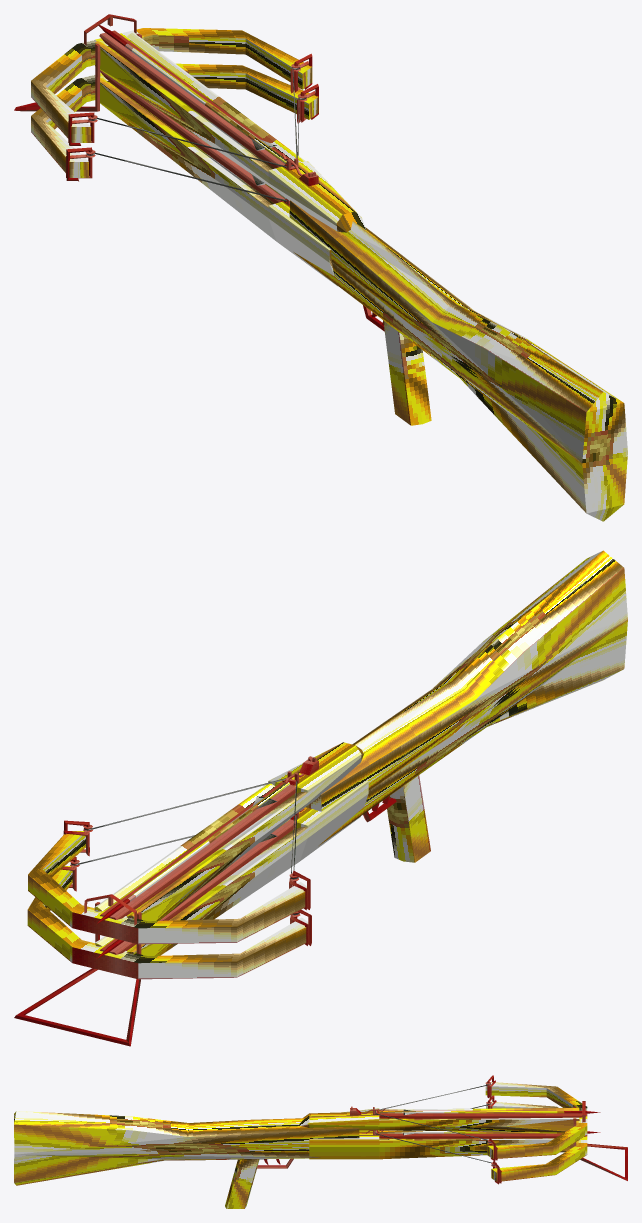
File: double_crossbow_arming_lower_2.obj
The picture shows the model from 3 angles, top to bottom: view 1: azimuth 30°, elevation 25°; view 2: azimuth 150°, elevation 25°; view 3: azimuth 270°, elevation 25°; orthographic projection. The views are drawn at different scales.
Visible parts, largest first — view 1: Torus.009_Torus.008, Torus.000, Torus.001_Torus.007, Torus.002_Torus.009; view 2: Torus.009_Torus.008, Torus.000, Torus.001_Torus.007, Torus.002_Torus.009; view 3: Torus.009_Torus.008, Torus.000, Torus.001_Torus.007, Torus.002_Torus.009, Torus.003_Torus.010.
Boxes of the visible parts, x1,y1,x2,y2 form: Torus.009_Torus.008: (282,153,627,521); Torus.000: (14,14,365,286); Torus.001_Torus.007: (31,28,318,201); Torus.002_Torus.009: (98,25,287,164); Torus.009_Torus.008: (282,550,627,862); Torus.000: (14,742,368,1046); Torus.001_Torus.007: (27,778,311,979); Torus.002_Torus.009: (97,782,289,923); Torus.009_Torus.008: (14,1106,385,1208); Torus.000: (299,1101,627,1180); Torus.001_Torus.007: (375,1075,587,1184); Torus.002_Torus.009: (380,1109,600,1115); Torus.003_Torus.010: (379,1130,600,1135).
Size of the model in its own units: 2.15 by 1.45 by 7.77.
